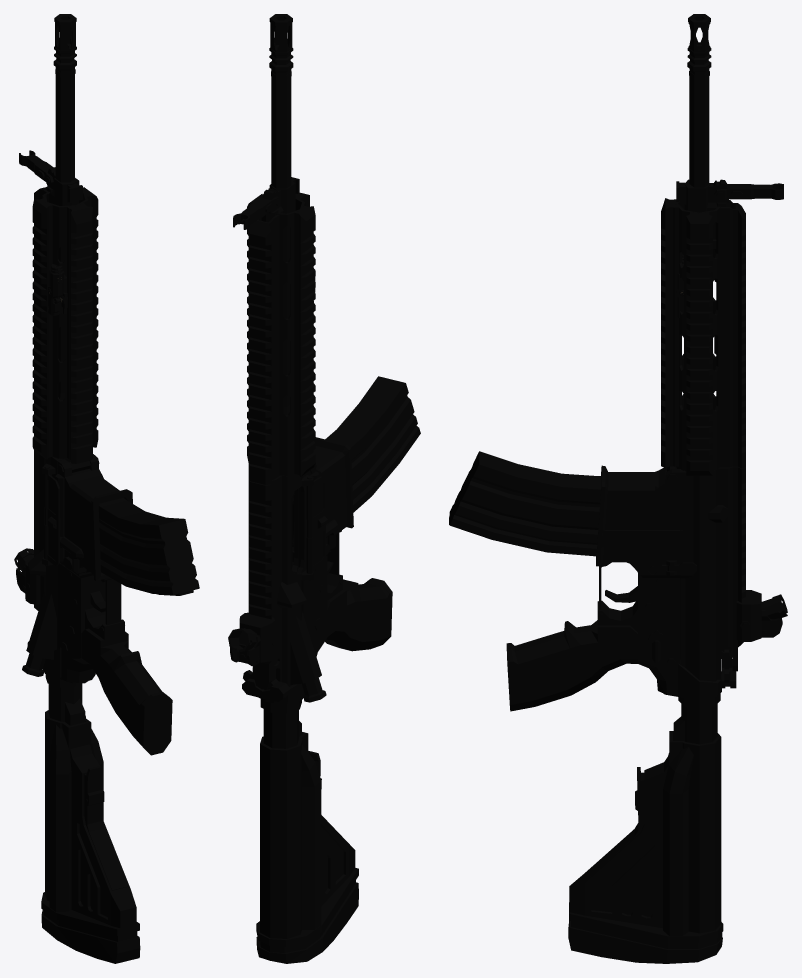
The model's file is HK416__Laser_Pistol.fbx.
3 views of the same model, side by side, from view 1: azimuth 30°, elevation 25°; view 2: azimuth 150°, elevation 25°; view 3: azimuth 270°, elevation 25° (orthographic). The views are drawn at different scales.
Parts seen in each view (by area): view 1: asset_HK416.001; view 2: asset_HK416.001; view 3: asset_HK416.001.
Boxes of the visible parts, x1=… form: asset_HK416.001: x1=14, y1=14, x2=199, y2=963; asset_HK416.001: x1=228, y1=14, x2=420, y2=963; asset_HK416.001: x1=449, y1=14, x2=787, y2=963.
Size of the model in its own units: 0.0385 by 0.48 by 0.1577.
